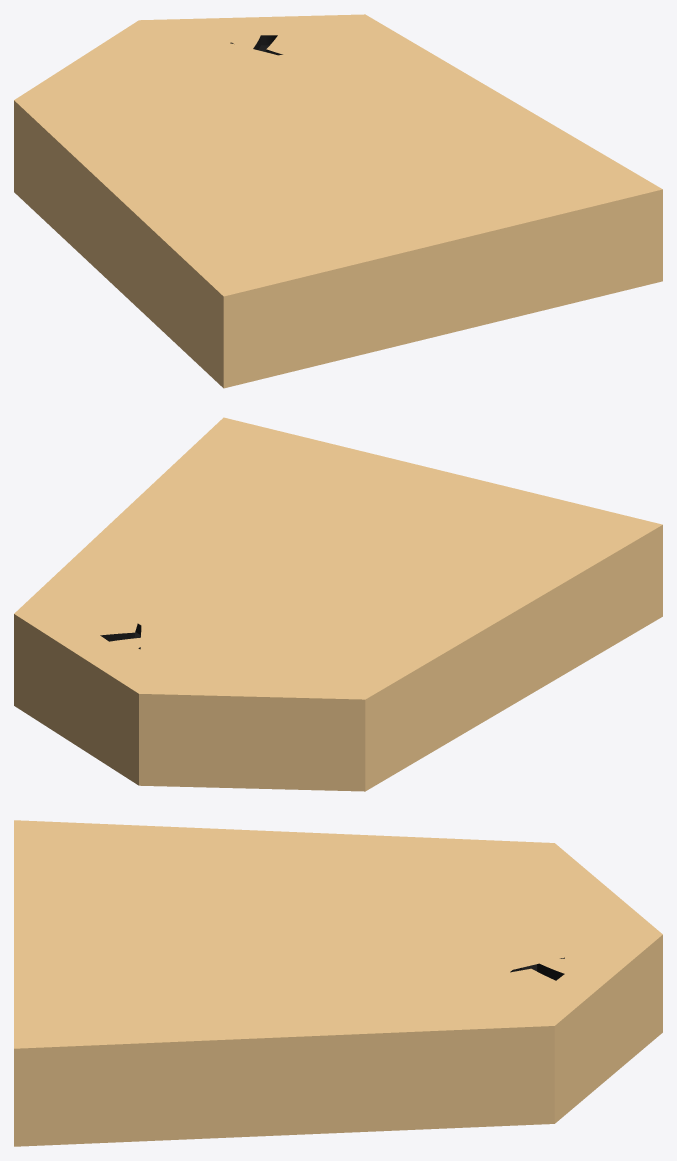
File: ShogiPiece_Rook.fbx
3 renders of one model, top to bottom at view 1: azimuth 30°, elevation 25°; view 2: azimuth 150°, elevation 25°; view 3: azimuth 270°, elevation 25°, orthographic. The views are drawn at different scales.
Parts seen in each view (by area): view 1: Cube; view 2: Cube; view 3: Cube.
Part boxes in pixels (bbox=[...]): Cube: bbox=[14, 14, 662, 388]; Cube: bbox=[14, 417, 662, 791]; Cube: bbox=[14, 820, 662, 1146].
Bounding box in the file's own units: 250 × 50 × 300.
